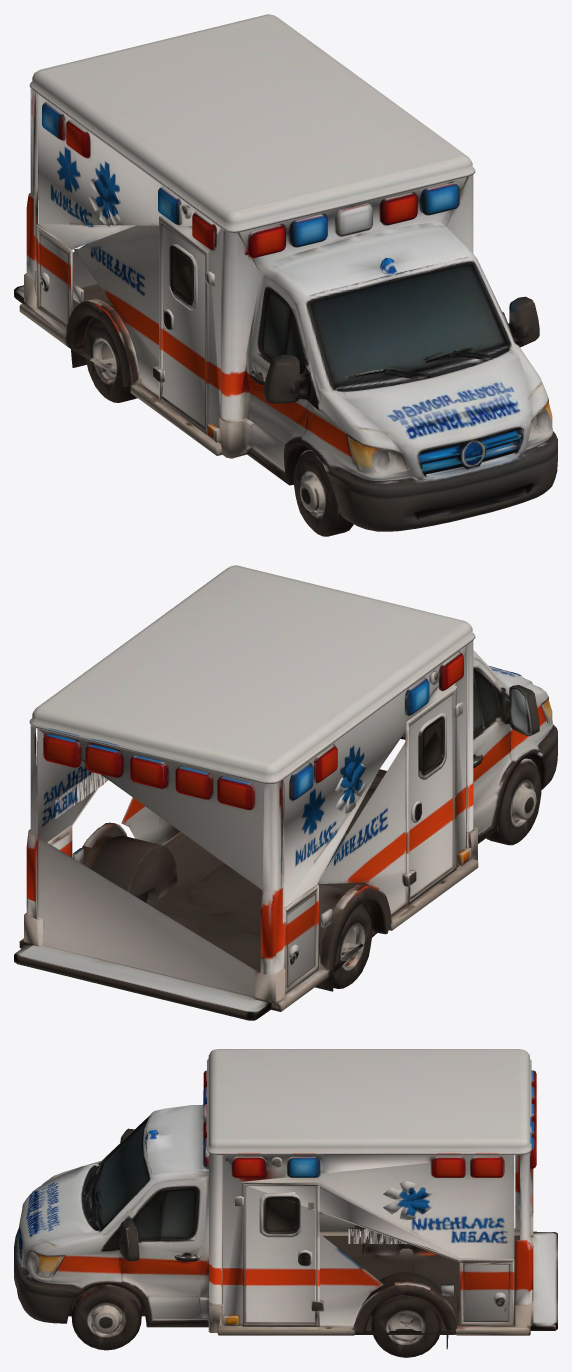
File: an_ambulance_e3b5e3c4_v3.glb
3 renders of one model, top to bottom at view 1: azimuth 30°, elevation 25°; view 2: azimuth 150°, elevation 25°; view 3: azimuth 270°, elevation 25°, orthographic. The views are drawn at different scales.
Parts seen in each view (by area): view 1: material; view 2: material; view 3: material.
Part boxes in pixels (box(x1,y1,x2,y2)): material: box(14, 14, 557, 536); material: box(14, 565, 557, 1020); material: box(14, 1049, 557, 1357).
Size of the model in its own units: 0.8698 by 0.8386 by 1.9.
1 material, 1 textured.
